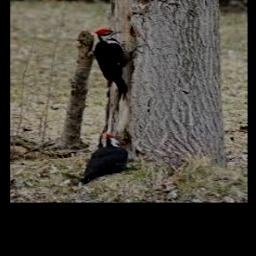Woodpecker: (94, 29, 147, 101), (84, 134, 142, 180)
